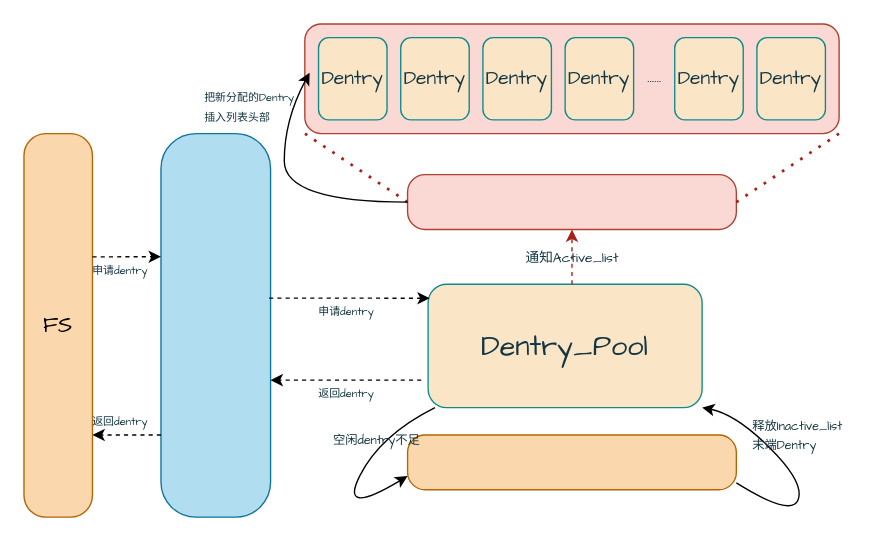
This 870x541 diagram has some shape labels left out. Each missing label, with the box of its shape:
Active_list: (406, 173, 736, 229)
Dentry Cache: (160, 132, 271, 517)
Inactive_list: (406, 434, 736, 490)
